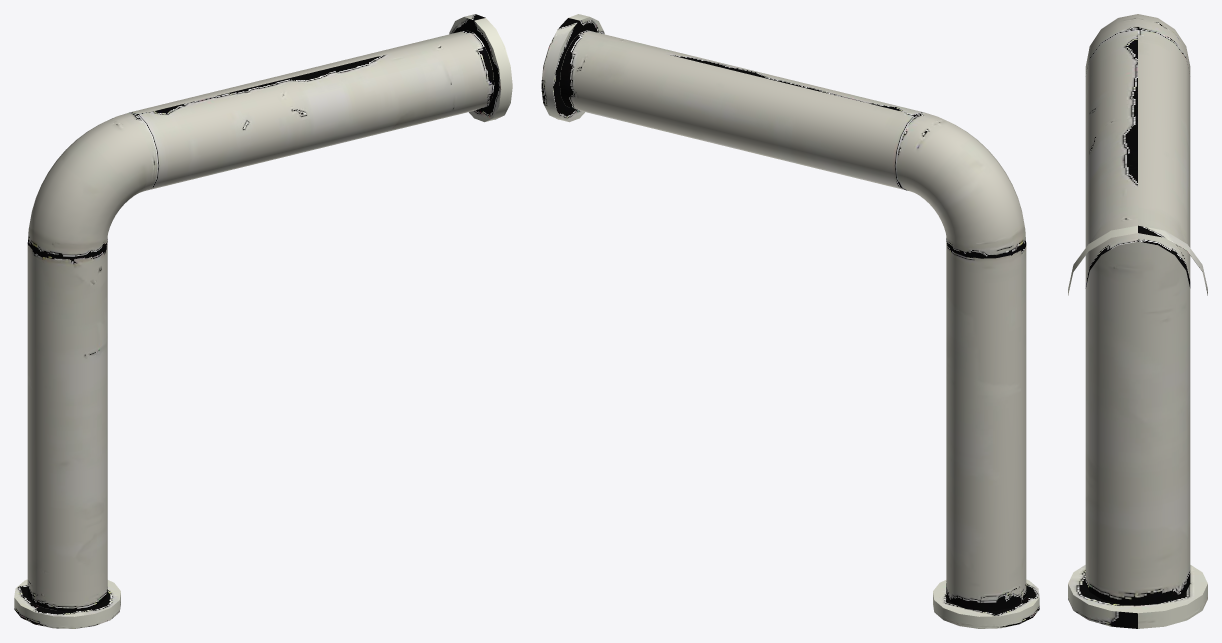
The picture shows the model from 3 angles, left to right: view 1: azimuth 30°, elevation 25°; view 2: azimuth 150°, elevation 25°; view 3: azimuth 270°, elevation 25°; orthographic projection. The views are drawn at different scales.
Visible parts, largest first — view 1: body0_model0_lod0_mesh0; view 2: body0_model0_lod0_mesh0; view 3: body0_model0_lod0_mesh0.
Part boxes in pixels (x1=…): body0_model0_lod0_mesh0: x1=14, y1=14, x2=512, y2=628; body0_model0_lod0_mesh0: x1=541, y1=14, x2=1039, y2=628; body0_model0_lod0_mesh0: x1=1068, y1=14, x2=1207, y2=628.
Size of the model in its own units: 160 by 160 by 32.15.
Materials: 1 (1 with a texture image).
